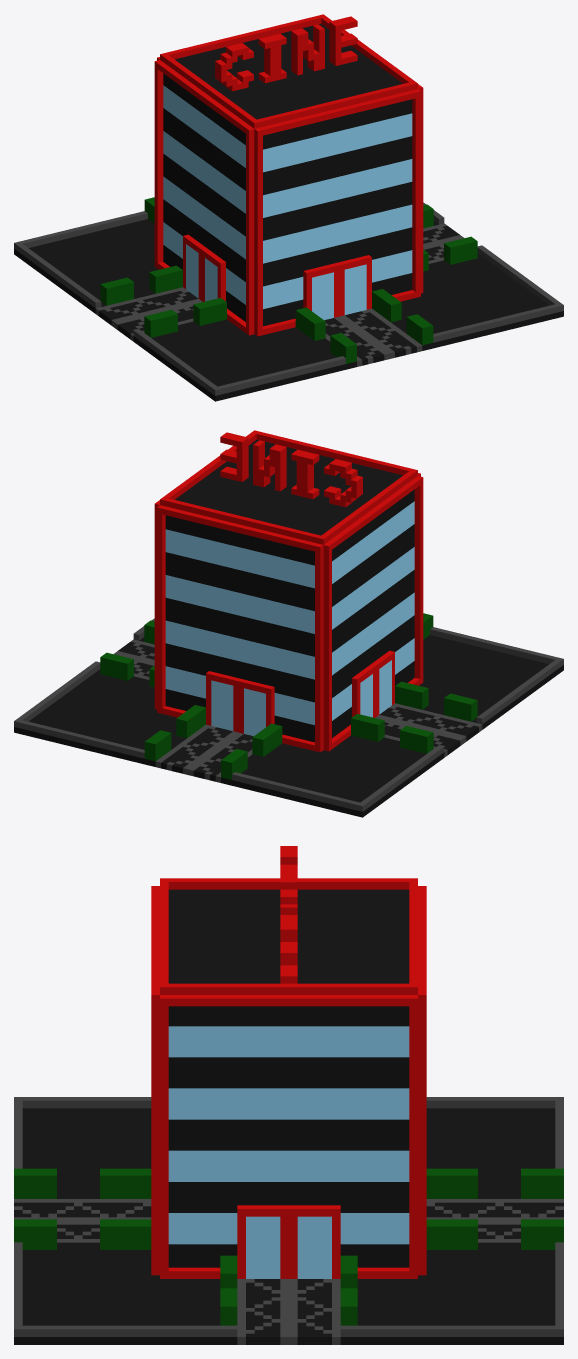
Rendered from EntertainmentCinemaWinWin.obj.
3 views of the same model, one above another, from view 1: azimuth 30°, elevation 25°; view 2: azimuth 150°, elevation 25°; view 3: azimuth 270°, elevation 25° (orthographic). The views are drawn at different scales.
Visible parts, largest first — view 1: EntertainmentCinemaWinWin; view 2: EntertainmentCinemaWinWin; view 3: EntertainmentCinemaWinWin.
Boxes of the visible parts, x1=… form: EntertainmentCinemaWinWin: x1=14, y1=14, x2=563, y2=401; EntertainmentCinemaWinWin: x1=14, y1=430, x2=563, y2=817; EntertainmentCinemaWinWin: x1=14, y1=846, x2=563, y2=1344.
Size of the model in its own units: 64 by 44 by 64.
1 material, 1 textured.
